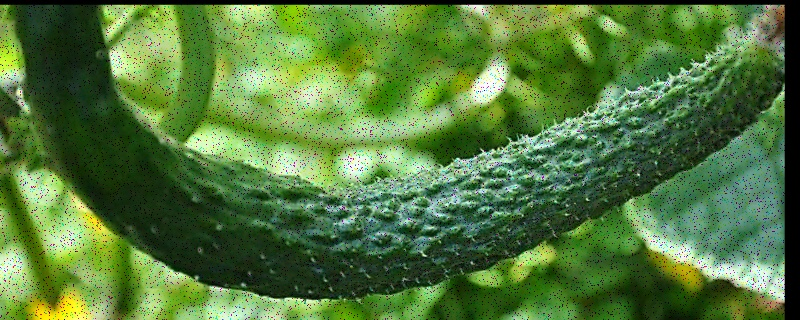cucumber: (33, 14, 776, 296)
